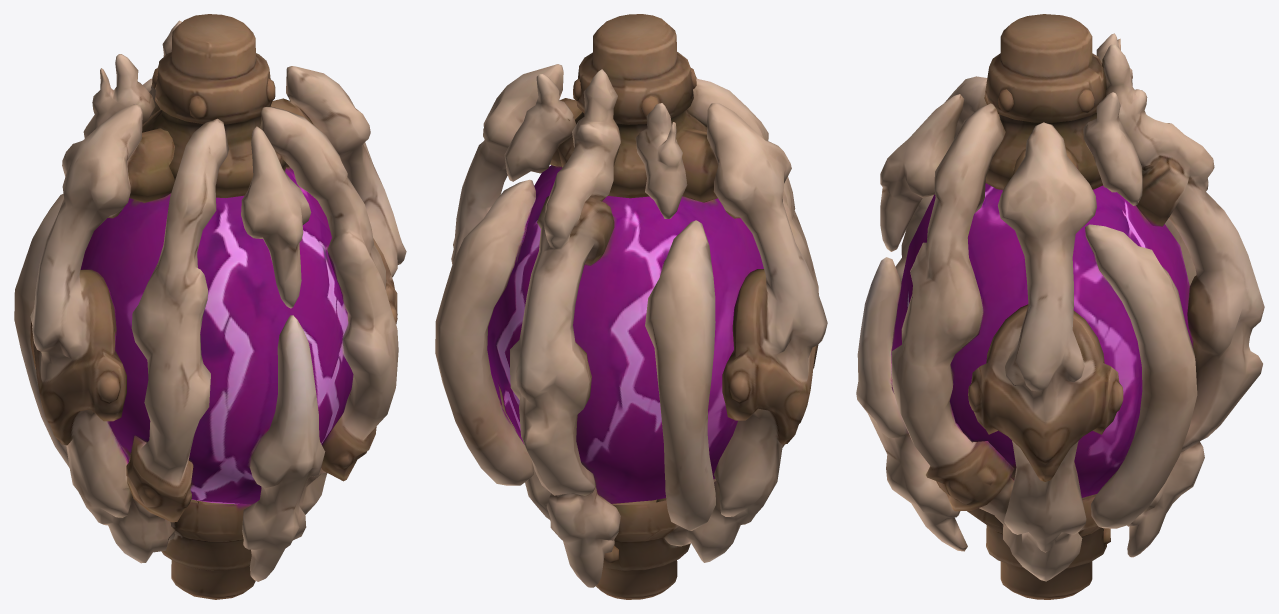
Rendered from SM_EnemyPart_LianguCore.glb.
3 views of the same model, side by side, from view 1: azimuth 30°, elevation 25°; view 2: azimuth 150°, elevation 25°; view 3: azimuth 270°, elevation 25° (orthographic).
Parts seen in each view (by area): view 1: SM_EnemyPart_LianguCore_LOD0; view 2: SM_EnemyPart_LianguCore_LOD0; view 3: SM_EnemyPart_LianguCore_LOD0.
Boxes of the visible parts, x1,y1,x2,y2 form: SM_EnemyPart_LianguCore_LOD0: (14,14,406,599); SM_EnemyPart_LianguCore_LOD0: (435,14,827,599); SM_EnemyPart_LianguCore_LOD0: (856,14,1264,599).
Size of what is drawn, in the model's own units: 0.6235 by 0.9 by 0.5975.
1 material, 1 textured.
